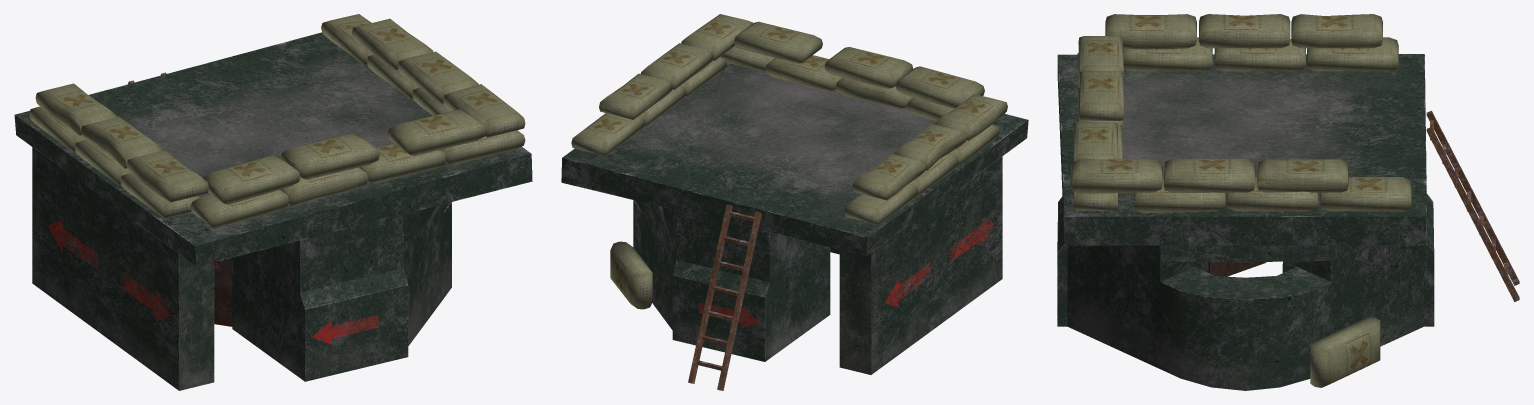
File: Dot.obj
3 views of the same model, side by side, from view 1: azimuth 30°, elevation 25°; view 2: azimuth 150°, elevation 25°; view 3: azimuth 270°, elevation 25° (orthographic). The views are drawn at different scales.
Visible parts, largest first — view 1: Куб, Куб.017, Плоскость, Куб.001, Плоскость.001; view 2: Куб, Куб.017, Плоскость, Куб.001, Куб.003, Куб.007_Куб.009; view 3: Куб, Плоскость, Куб.017, Куб.007_Куб.009, Куб.003, Плоскость.001.
Part boxes in pixels (x1=…): Куб: x1=14, y1=32, x2=532, y2=266; Куб.017: x1=29, y1=14, x2=525, y2=228; Плоскость: x1=232, y1=202, x2=451, y2=381; Куб.001: x1=32, y1=147, x2=214, y2=390; Плоскость.001: x1=214, y1=258, x2=232, y2=326; Куб: x1=561, y1=63, x2=1028, y2=256; Куб.017: x1=571, y1=14, x2=1007, y2=224; Плоскость: x1=633, y1=200, x2=839, y2=361; Куб.001: x1=839, y1=156, x2=1002, y2=374; Куб.003: x1=688, y1=204, x2=761, y2=390; Куб.007_Куб.009: x1=610, y1=241, x2=652, y2=309; Куб: x1=1057, y1=54, x2=1426, y2=245; Плоскость: x1=1057, y1=193, x2=1434, y2=390; Куб.017: x1=1071, y1=14, x2=1411, y2=213; Куб.007_Куб.009: x1=1310, y1=316, x2=1380, y2=387; Куб.003: x1=1426, y1=110, x2=1519, y2=301; Плоскость.001: x1=1208, y1=261, x2=1266, y2=276.
Bounding box in the file's own units: 2.86 × 1.73 × 3.28.
4 materials, 4 textured.
